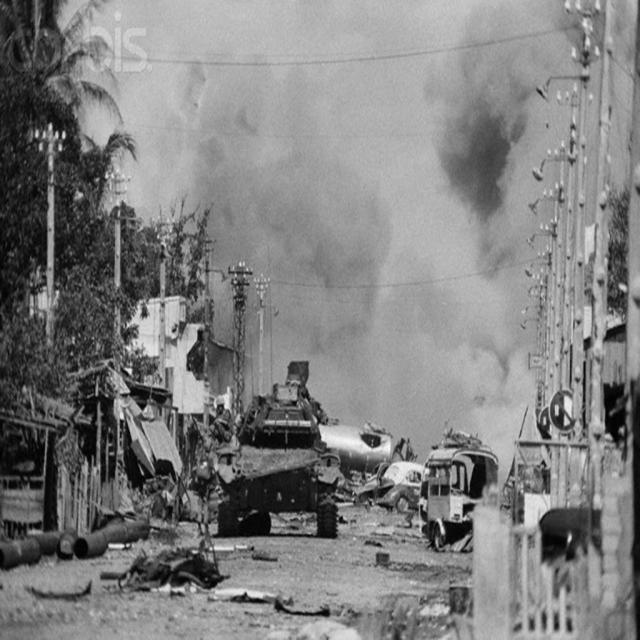tank: (214, 361, 338, 536)
